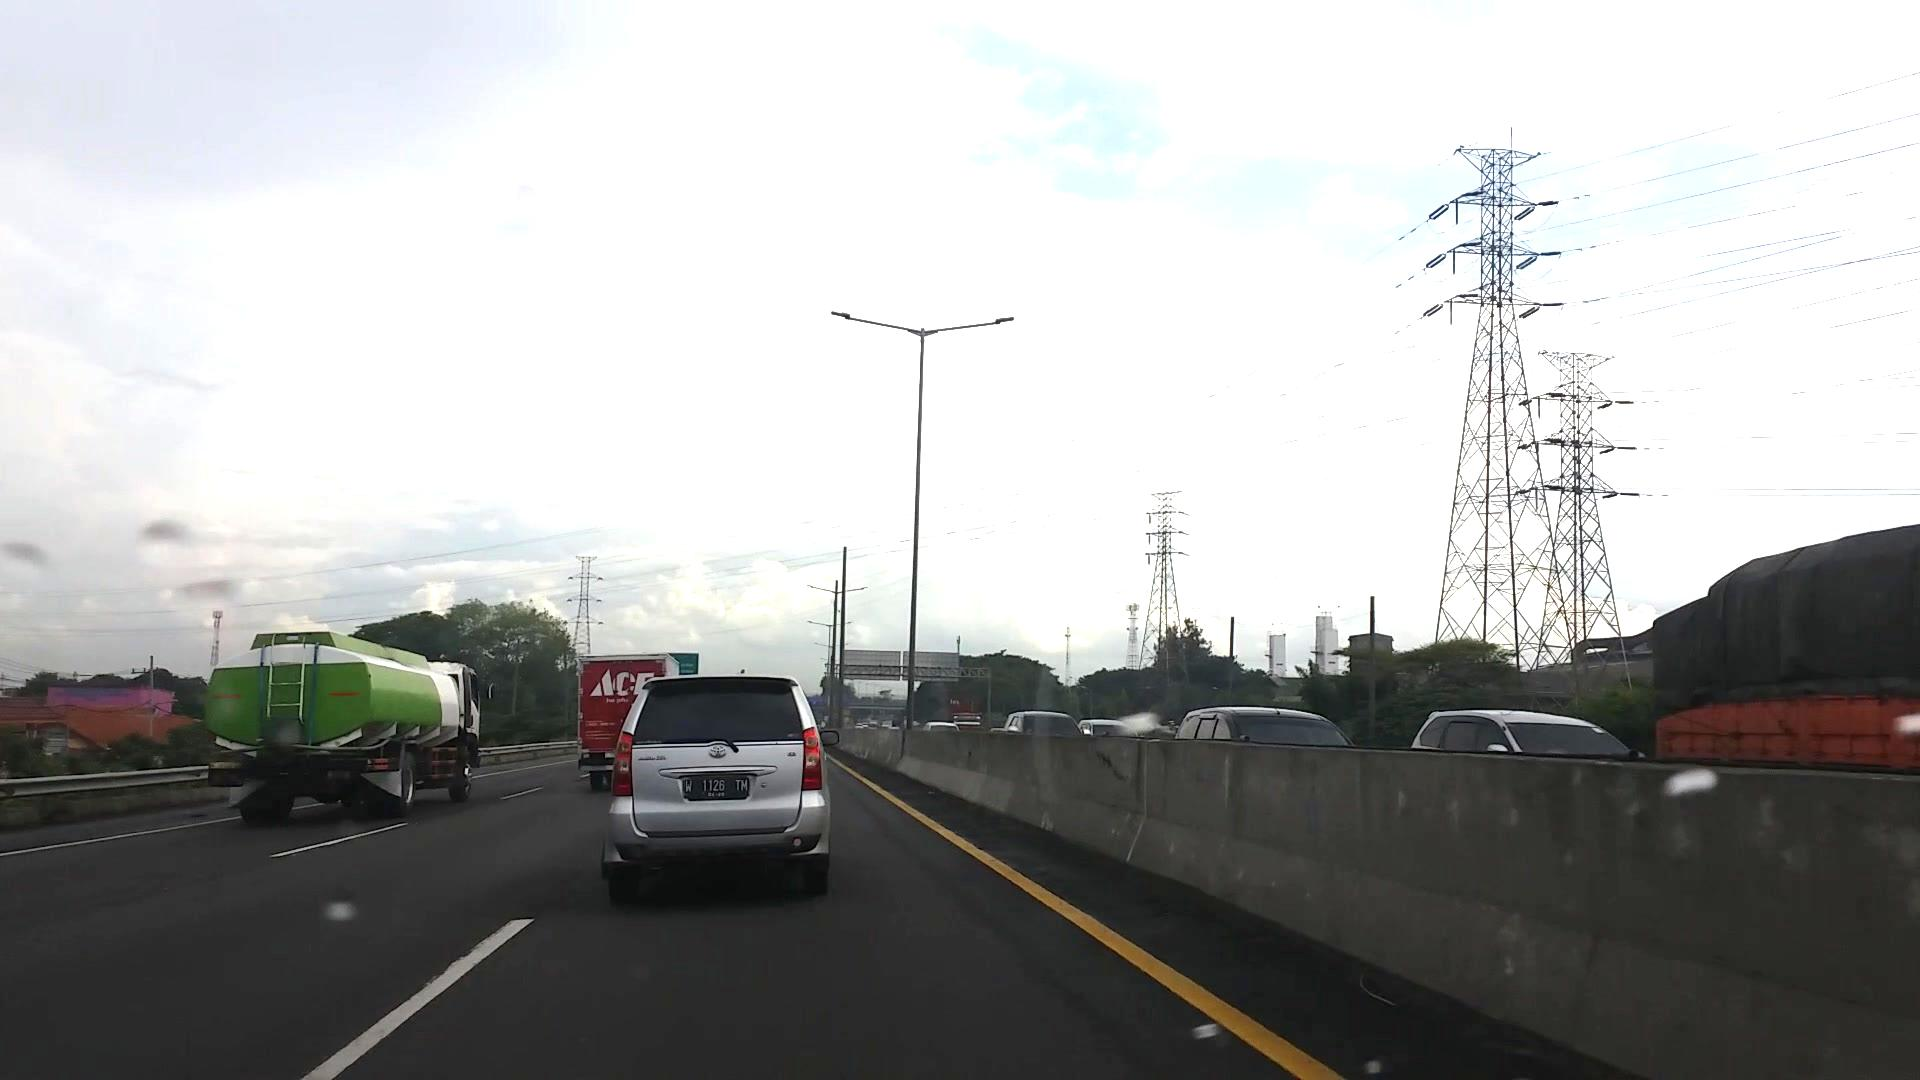plate_positive: (682, 775, 749, 800)
